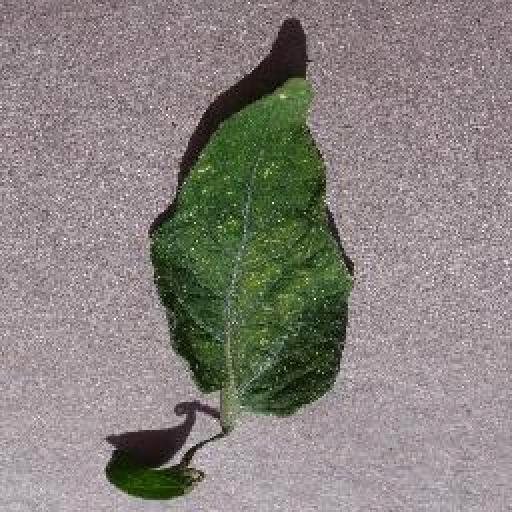disease_tomato: (152, 74, 354, 414)
